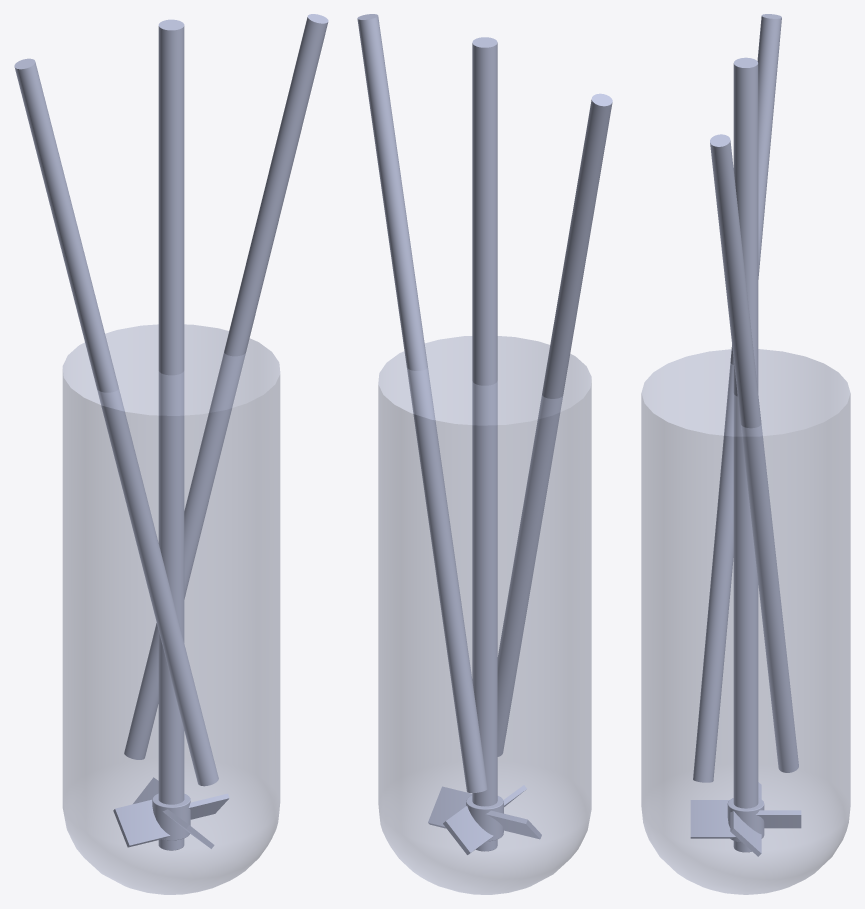
The picture shows the model from 3 angles, left to right: view 1: azimuth 30°, elevation 25°; view 2: azimuth 150°, elevation 25°; view 3: azimuth 270°, elevation 25°; orthographic projection. The views are drawn at different scales.
Visible parts, largest first — view 1: tank_cad_22cm, Impeller1, Probe 1.sldasm-Part-1, Probe 2.sldasm-Part-1; view 2: tank_cad_22cm, Impeller1, Probe 2.sldasm-Part-1, Probe 1.sldasm-Part-1; view 3: tank_cad_22cm, Impeller1, Probe 2.sldasm-Part-1, Probe 1.sldasm-Part-1.
Part boxes in pixels (x1,y1,x2,y2): tank_cad_22cm: [62, 324, 280, 894]; Impeller1: [113, 19, 229, 850]; Probe 1.sldasm-Part-1: [14, 58, 218, 786]; Probe 2.sldasm-Part-1: [124, 14, 328, 759]; tank_cad_22cm: [378, 336, 591, 894]; Impeller1: [428, 37, 541, 854]; Probe 2.sldasm-Part-1: [357, 14, 487, 792]; Probe 1.sldasm-Part-1: [497, 93, 612, 756]; tank_cad_22cm: [641, 349, 850, 894]; Impeller1: [690, 57, 801, 856]; Probe 2.sldasm-Part-1: [710, 134, 798, 772]; Probe 1.sldasm-Part-1: [693, 14, 781, 782].
Size of the model in its own units: 0.1278 by 0.368 by 0.085.
